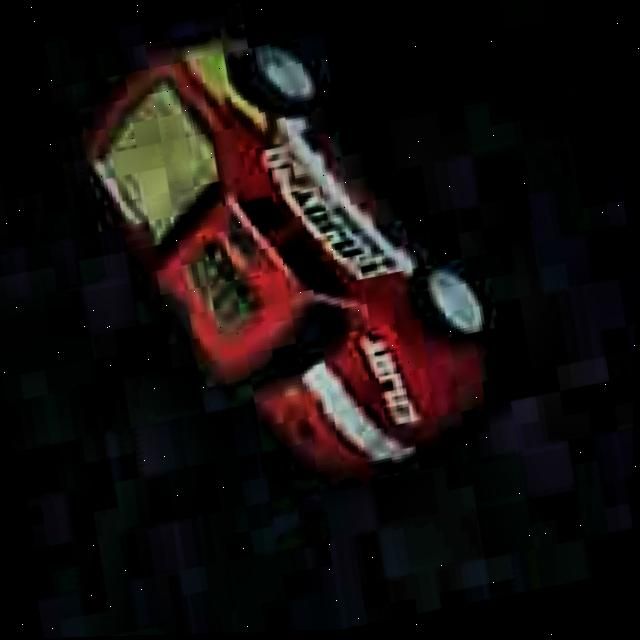car: (50, 0, 533, 537)
